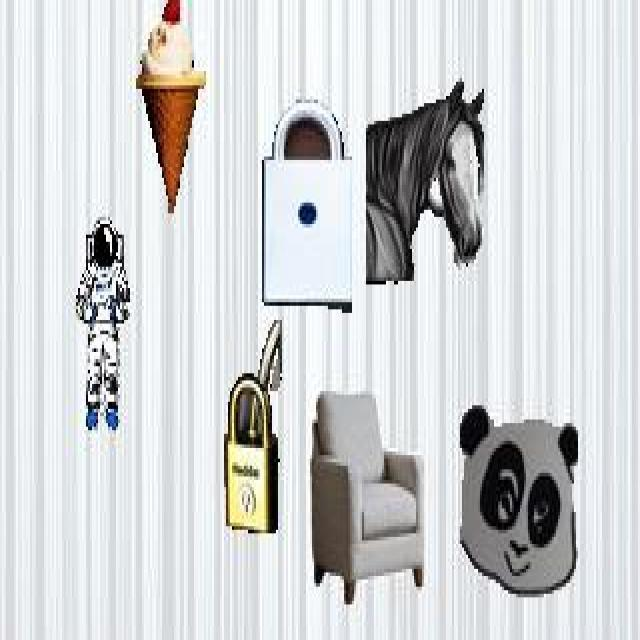Other Objects: (260, 96, 353, 316), (223, 321, 283, 536), (73, 216, 132, 430)
